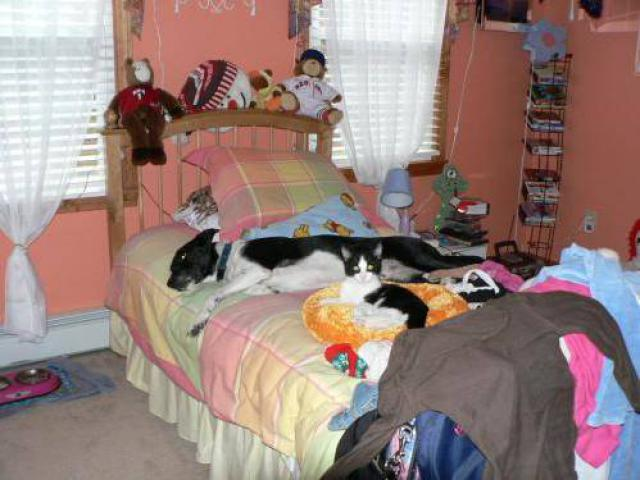cat: (327, 242, 429, 336)
dog: (155, 220, 473, 330)
